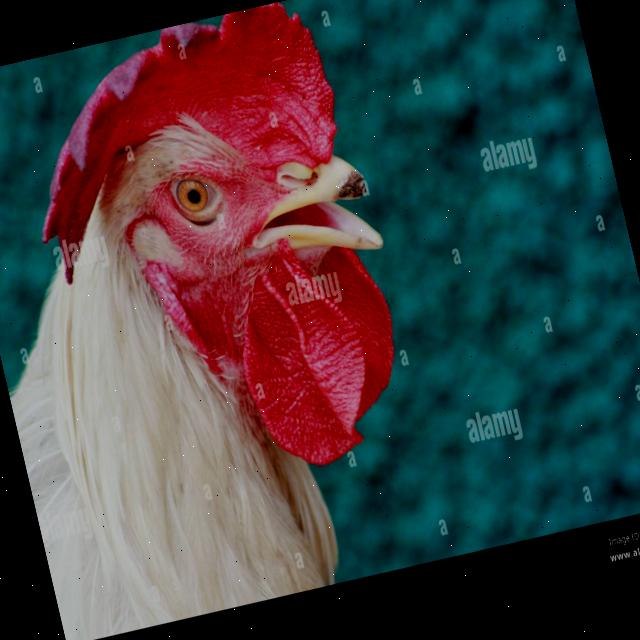Healthy: (0, 0, 468, 640)
